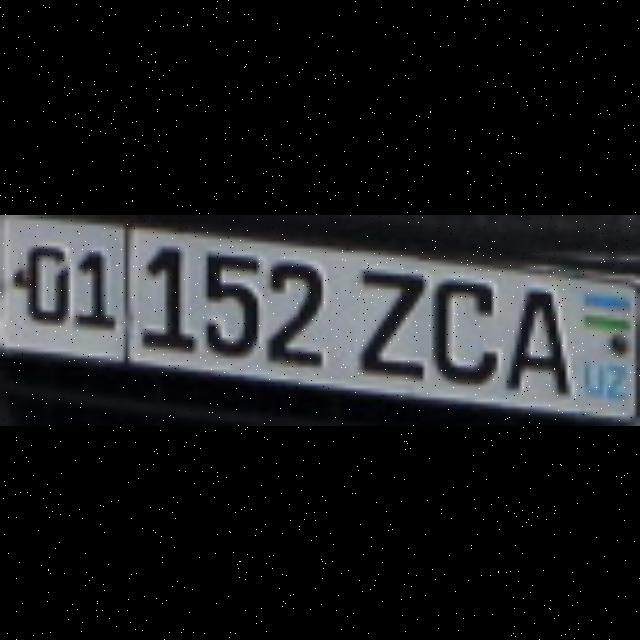0: (24, 237, 64, 315)
1: (133, 237, 193, 343), (74, 242, 110, 320)
2: (262, 251, 322, 357)
5: (198, 246, 254, 352)
A: (502, 283, 566, 389)
C: (428, 270, 492, 380)
Z: (354, 260, 424, 376)
